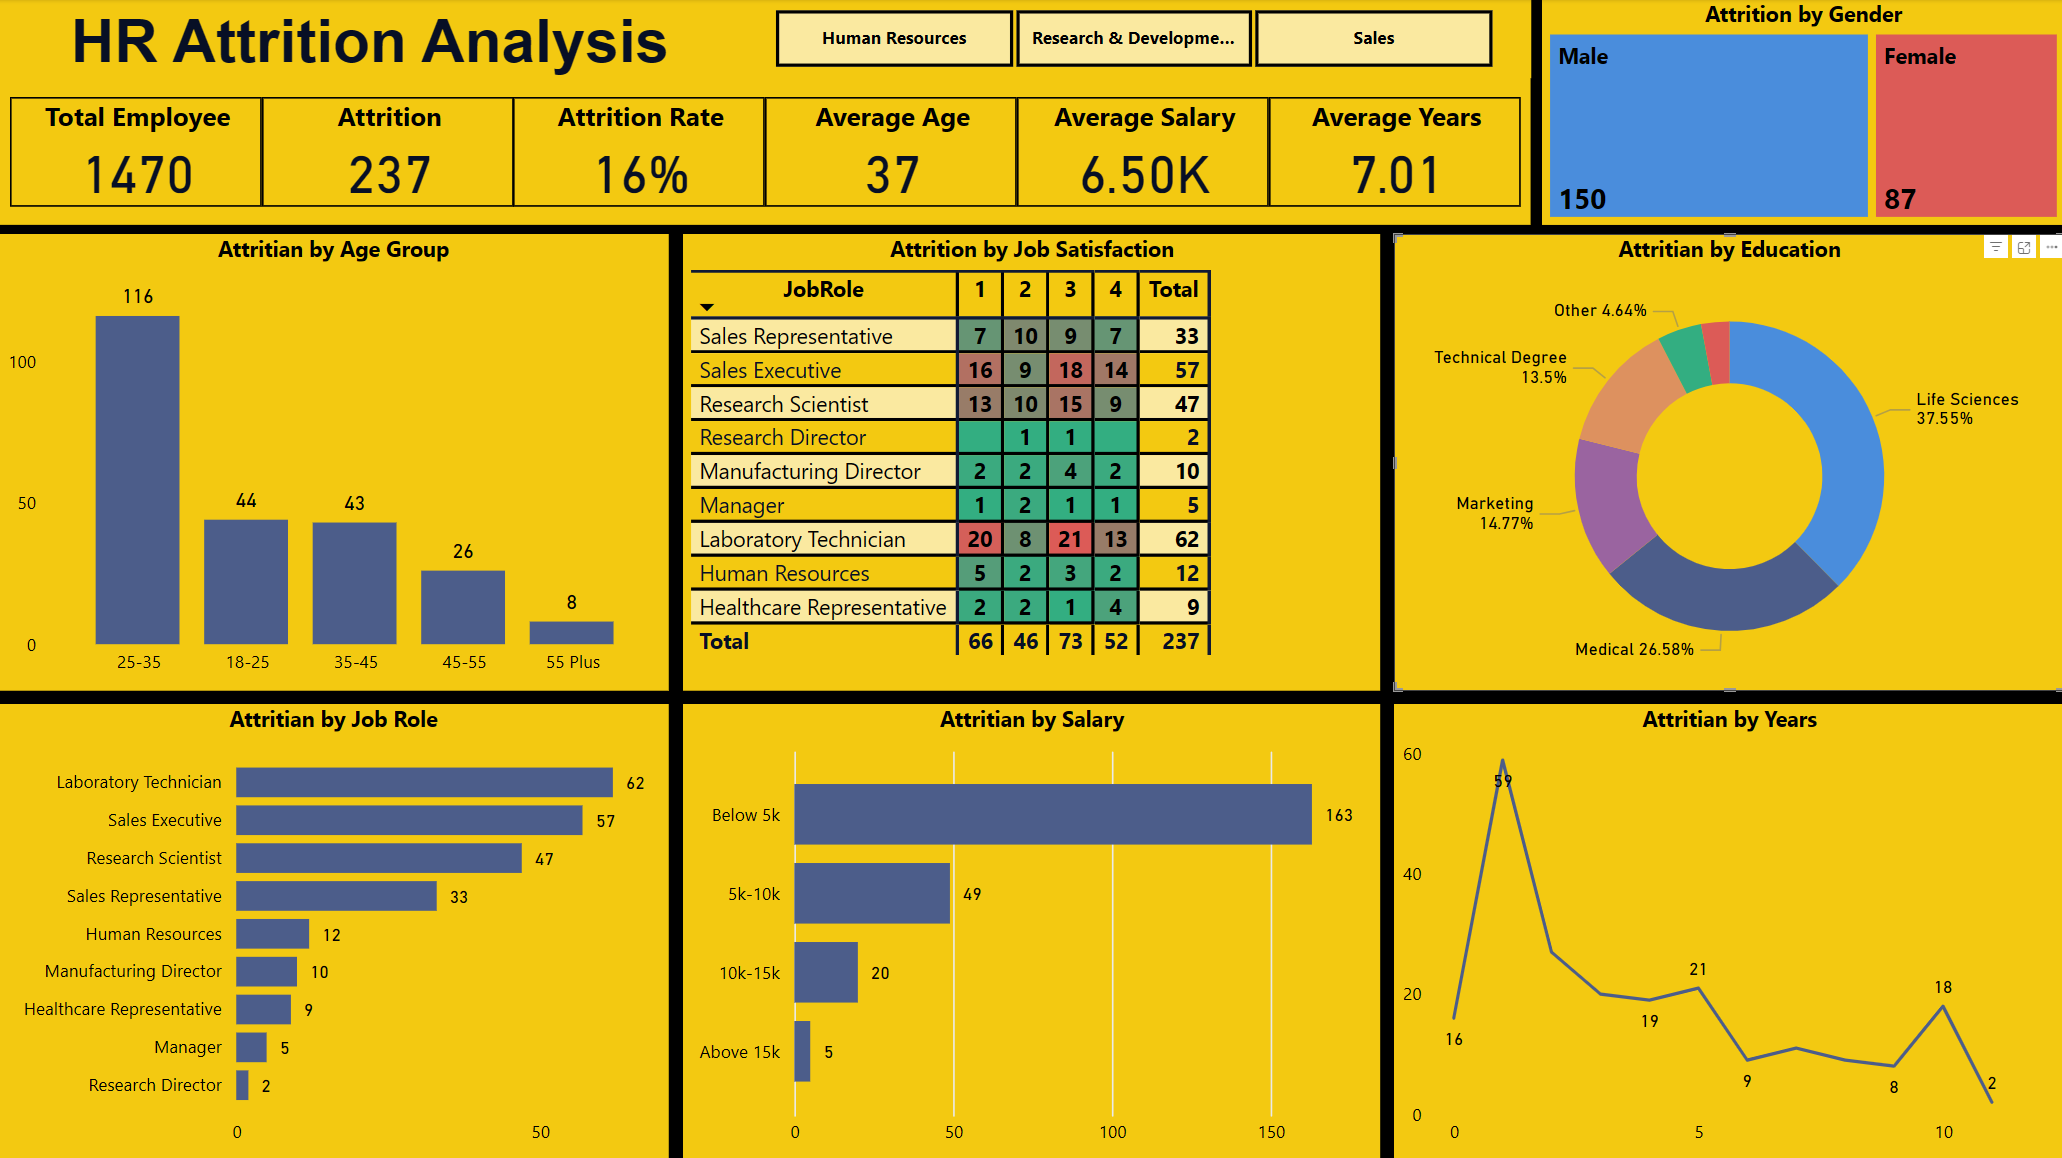

What the dashboard file says about the page in this screenshot:
{"tool":"powerbi","page":{"name":"Page 1","canvas":[1280,720],"ordinal":0},"visuals":[{"type":"textbox","box":[0,0,459.8,53.3],"z":0},{"type":"slicer","fields":{"Values":["HR_Project_Power BI.Department"]},"box":[455.4,0,493.8,49],"z":1000},{"type":"textbox","box":[0,49,949.3,91.1],"z":2000},{"type":"card","title":"Average Age","fields":{"Values":["DAX_Measures.Average Age"]},"box":[474.6,60.7,156.1,68.2],"z":3000},{"type":"card","title":"Average Salary","fields":{"Values":["DAX_Measures.Average Income"]},"box":[630.8,60.7,156.1,68.2],"z":4000},{"type":"card","title":"Average Years","fields":{"Values":["DAX_Measures.Average Work Years"]},"box":[786.9,60.7,156.1,68.2],"z":5000},{"type":"card","title":"Attrition Rate","fields":{"Values":["DAX_Measures.Attritian Rate"]},"box":[318.5,60.7,156.1,68.2],"z":6000},{"type":"card","title":"Attrition","fields":{"Values":["DAX_Measures.Attritian"]},"box":[163,60.7,156.1,68.2],"z":7000},{"type":"card","title":"Total Employee","fields":{"Values":["DAX_Measures.Total Employee"]},"box":[6.8,60.7,156.1,68.2],"z":8000},{"type":"donutChart","title":"Attritian by Education","fields":{"Category":["HR_Project_Power BI.EducationField"],"Y":["DAX_Measures.Attritian"]},"box":[864.4,145.6,415.8,283.2],"z":9000},{"type":"barChart","title":"Attritian by Education","fields":{"Y":["DAX_Measures.Attrition"],"Category":["HR_Project_Power BI.Income Group"]},"box":[423.8,436.8,432.5,283.2],"z":10000},{"type":"pivotTable","title":"Attrition by Job Satisfaction","fields":{"Values":["DAX_Measures.Attrition"],"Columns":["HR_Project_Power BI.JobSatisfaction"],"Rows":["HR_Project_Power BI.JobRole"]},"box":[423.8,145.6,432.5,283.2],"z":11000},{"type":"columnChart","title":"Attritian by Age Group","fields":{"Y":["DAX_Measures.Attritian"],"Category":["HR_Project_Power BI.Age Group"]},"box":[0,145.6,414.5,283.2],"z":12000},{"type":"barChart","title":"Attritian by Job Role","fields":{"Category":["HR_Project_Power BI.JobRole"],"Y":["DAX_Measures.Attrition"]},"box":[0,436.8,414.5,283.2],"z":13000},{"type":"lineChart","title":"Attritian by Years","fields":{"Y":["DAX_Measures.Attrition"],"Category":["HR_Project_Power BI.YearsAtCompany"]},"box":[864.4,436.8,415.8,283.2],"z":14000},{"type":"treemap","fields":{"Values":["DAX_Measures.Attrition"],"Group":["HR_Project_Power BI.Gender"]},"box":[956.1,0,324.1,140],"z":15000}]}

Visuals, with their boxes in screenshot pixels (x1, y1, x2, y2), scaled from the page's 1280x720 canvas onto the 2062x1158 screenshot:
textbox: select_region(0, 0, 741, 86)
slicer - HR_Project_Power BI.Department: select_region(734, 0, 1529, 79)
textbox: select_region(0, 79, 1529, 225)
"Average Age" card: select_region(765, 98, 1016, 207)
"Average Salary" card: select_region(1016, 98, 1268, 207)
"Average Years" card: select_region(1268, 98, 1519, 207)
"Attrition Rate" card: select_region(513, 98, 765, 207)
"Attrition" card: select_region(263, 98, 514, 207)
"Total Employee" card: select_region(11, 98, 262, 207)
"Attritian by Education" donutChart: select_region(1392, 234, 2061, 690)
"Attritian by Education" barChart: select_region(683, 703, 1379, 1157)
"Attrition by Job Satisfaction" pivotTable: select_region(683, 234, 1379, 690)
"Attritian by Age Group" columnChart: select_region(0, 234, 668, 690)
"Attritian by Job Role" barChart: select_region(0, 703, 668, 1157)
"Attritian by Years" lineChart: select_region(1392, 703, 2061, 1157)
treemap - DAX_Measures.Attrition x HR_Project_Power BI.Gender: select_region(1540, 0, 2061, 225)
